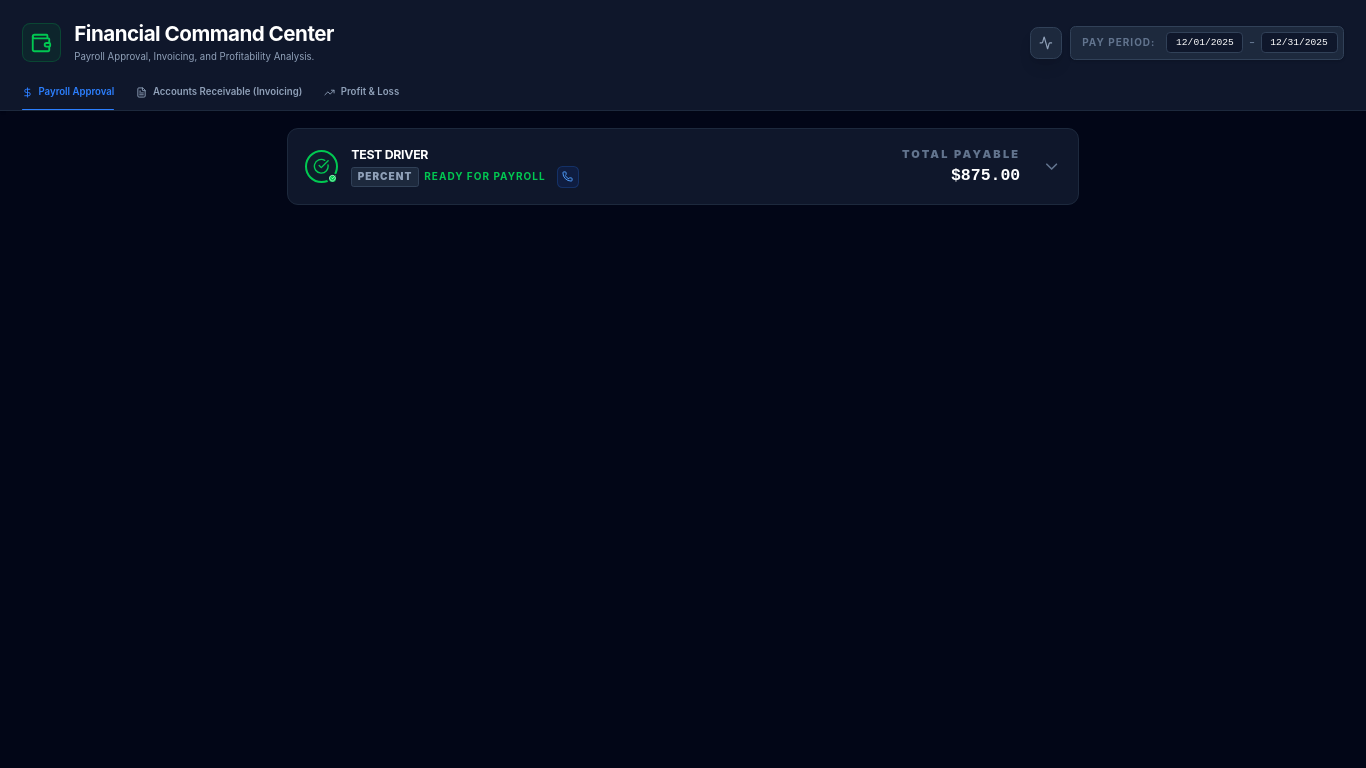
Test: Settlements component › shows feedback after Authorize & Pay is clicked
Click the heading "Test Driver" at (390, 154), box [351,147,428,162]
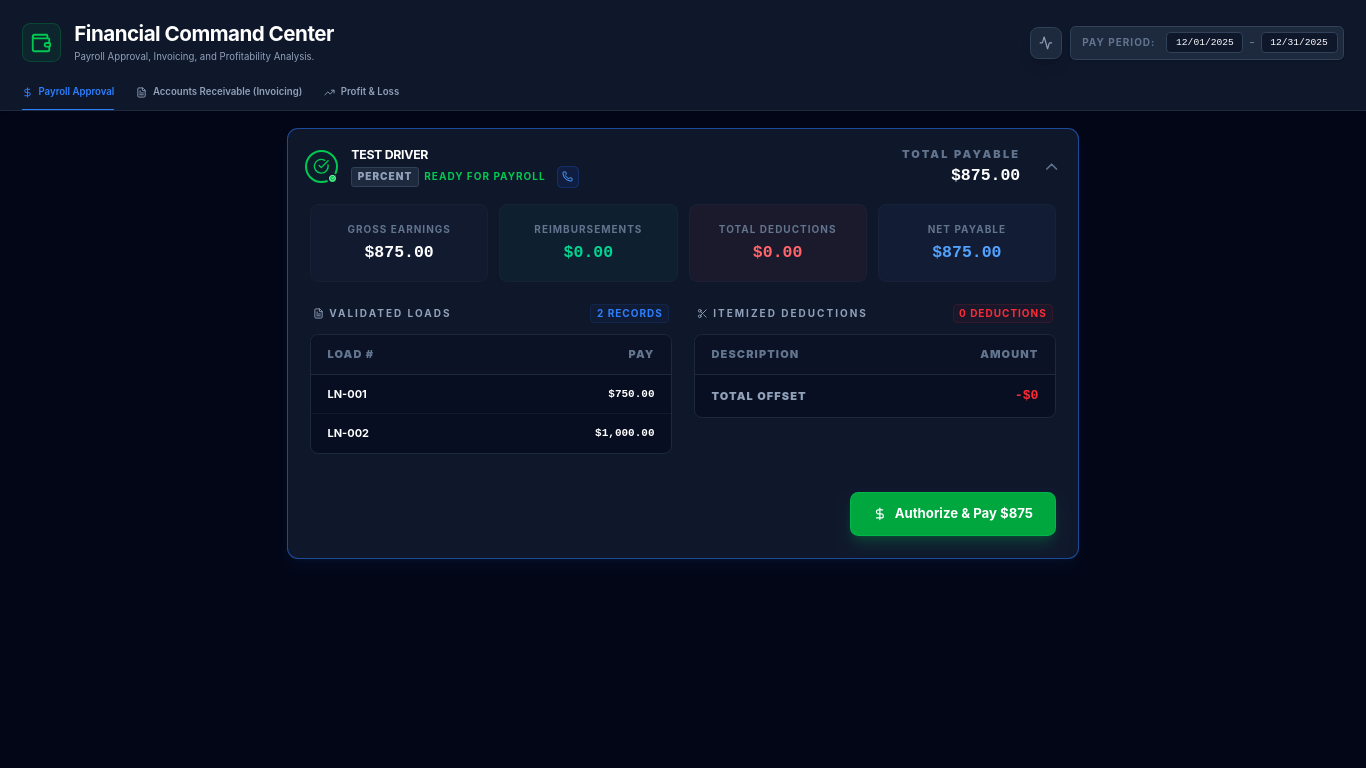
Now the button "Authorize & Pay $875" is shown
Click the button "Authorize & Pay $875" at (953, 514), box [850,492,1056,536]
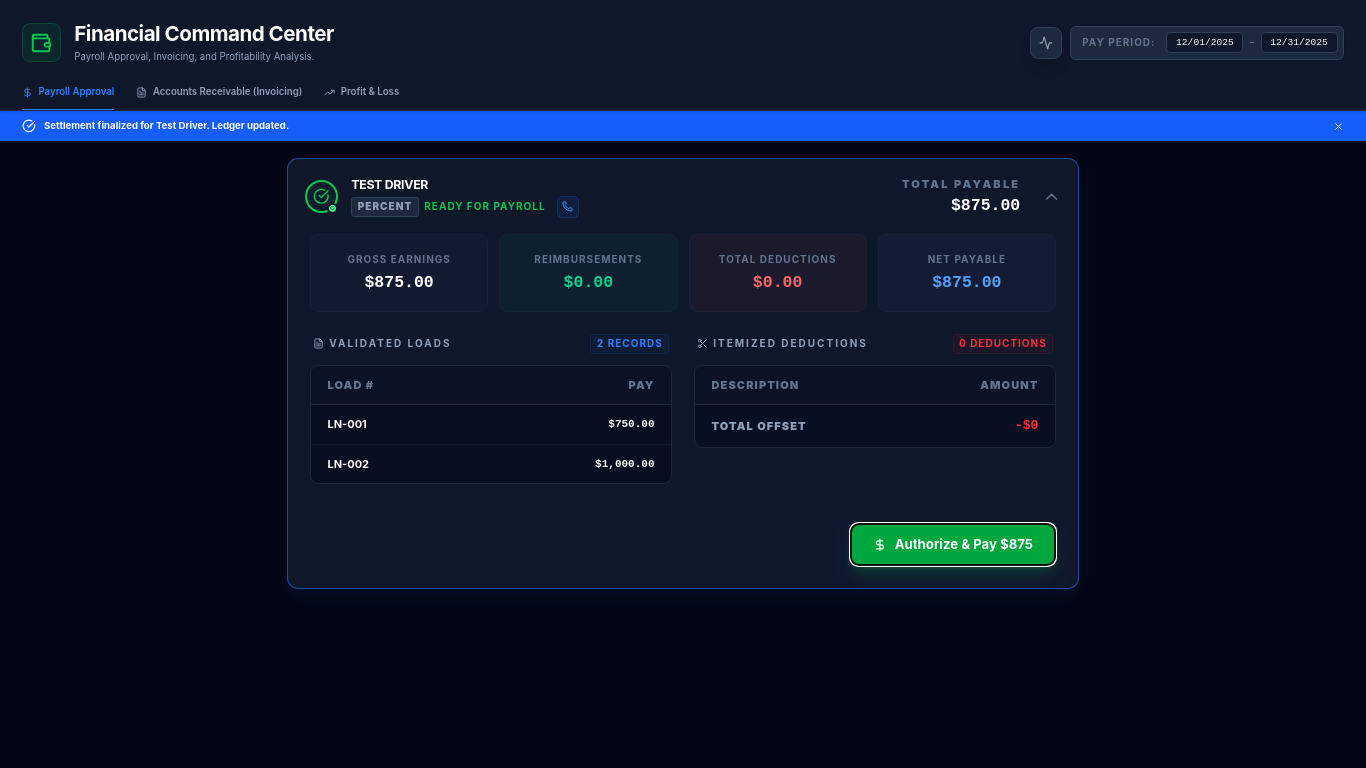
Now the text "Settlement finalized for Test Driver. Ledger updated." is shown, box [44,119,289,133]
